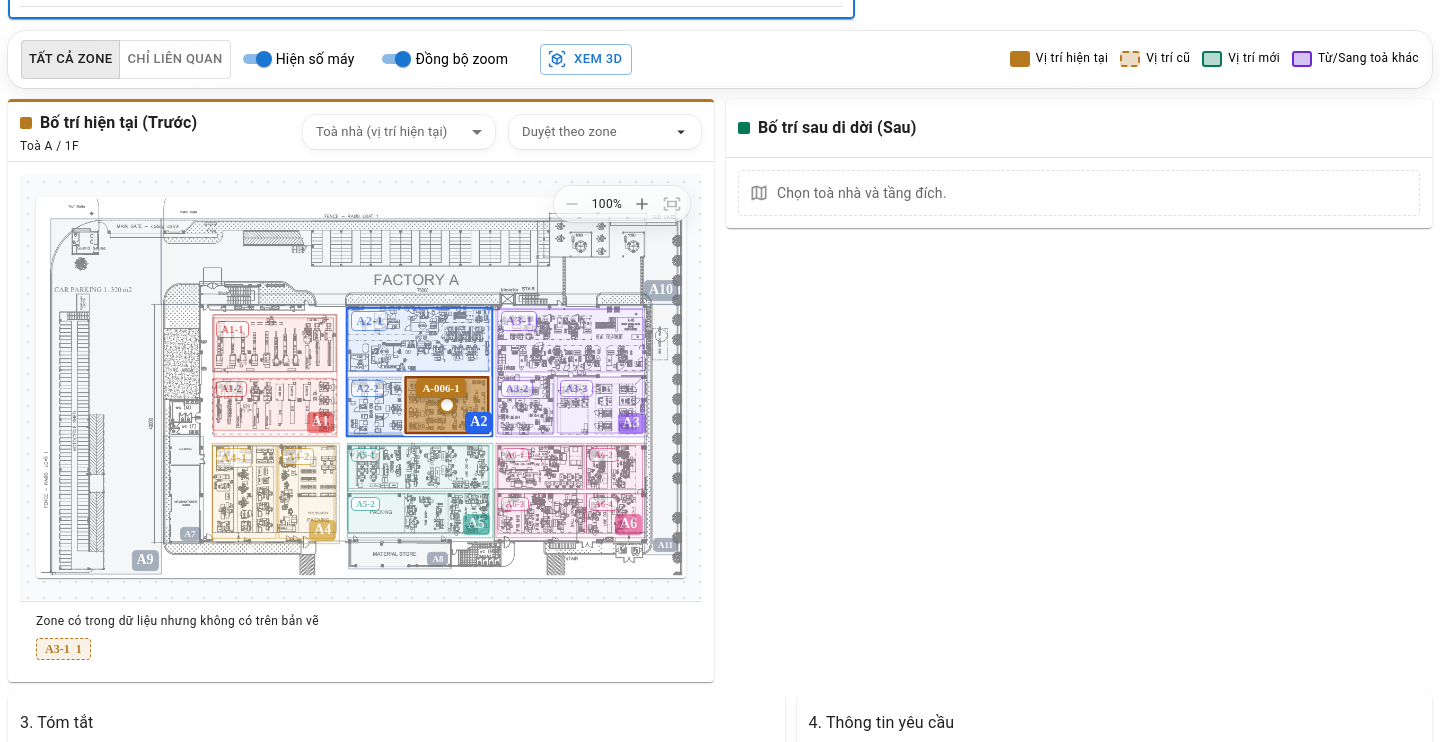
Test case: RelocationTab - browse by zone › opens the zone list from the Before map; "Select all" adds only selectable machines
(page scrolled)
Press Enter in the element with class "reloc-zone", box x1=406 y1=378 x2=488 y2=433
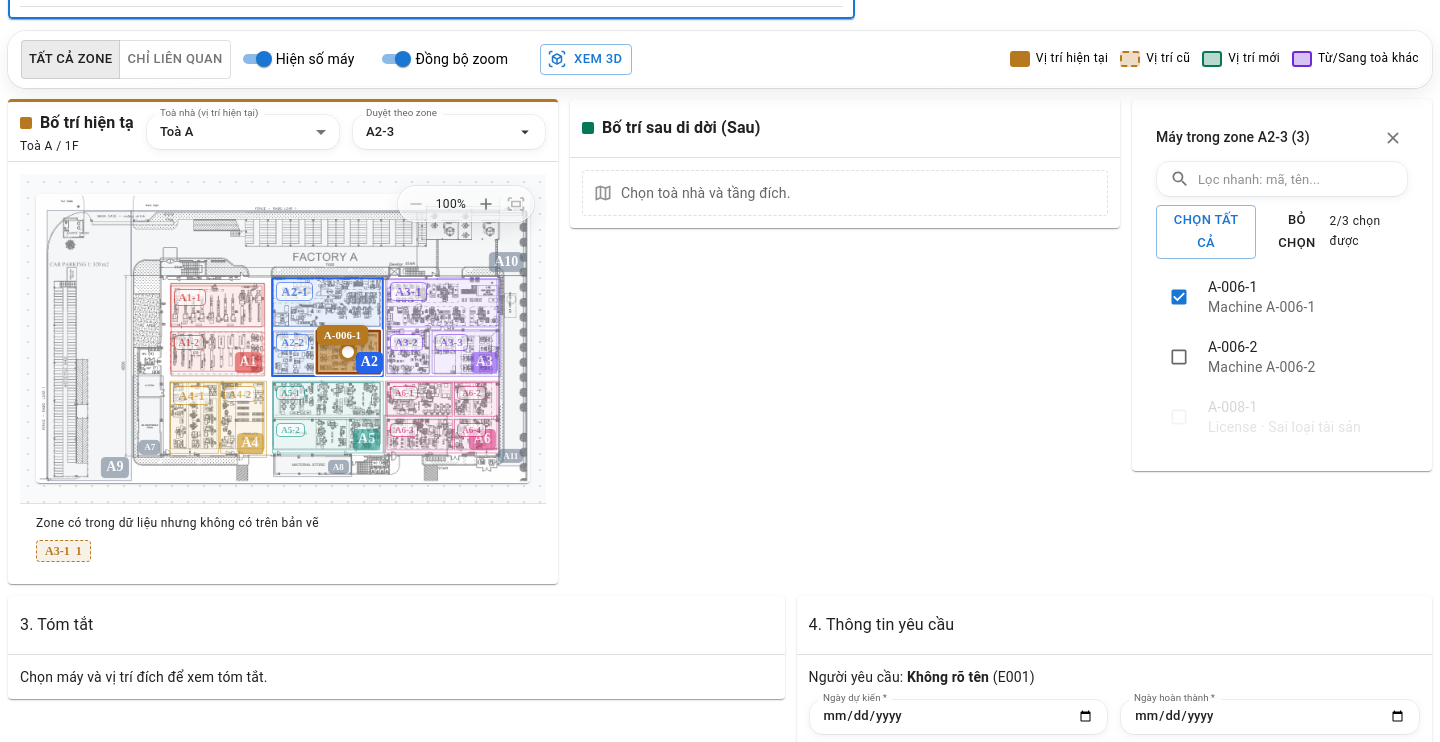
expect the checkbox labelled "A-006-1 Machine A-006-1" is checked: met, box x1=1169 y1=287 x2=1189 y2=307
expect the checkbox labelled "A-006-2 Machine A-006-2" is not checked: met, box x1=1169 y1=347 x2=1189 y2=367
Click the button "Chọn tất cả": (1206,232) x1=1156 y1=205 x2=1256 y2=259
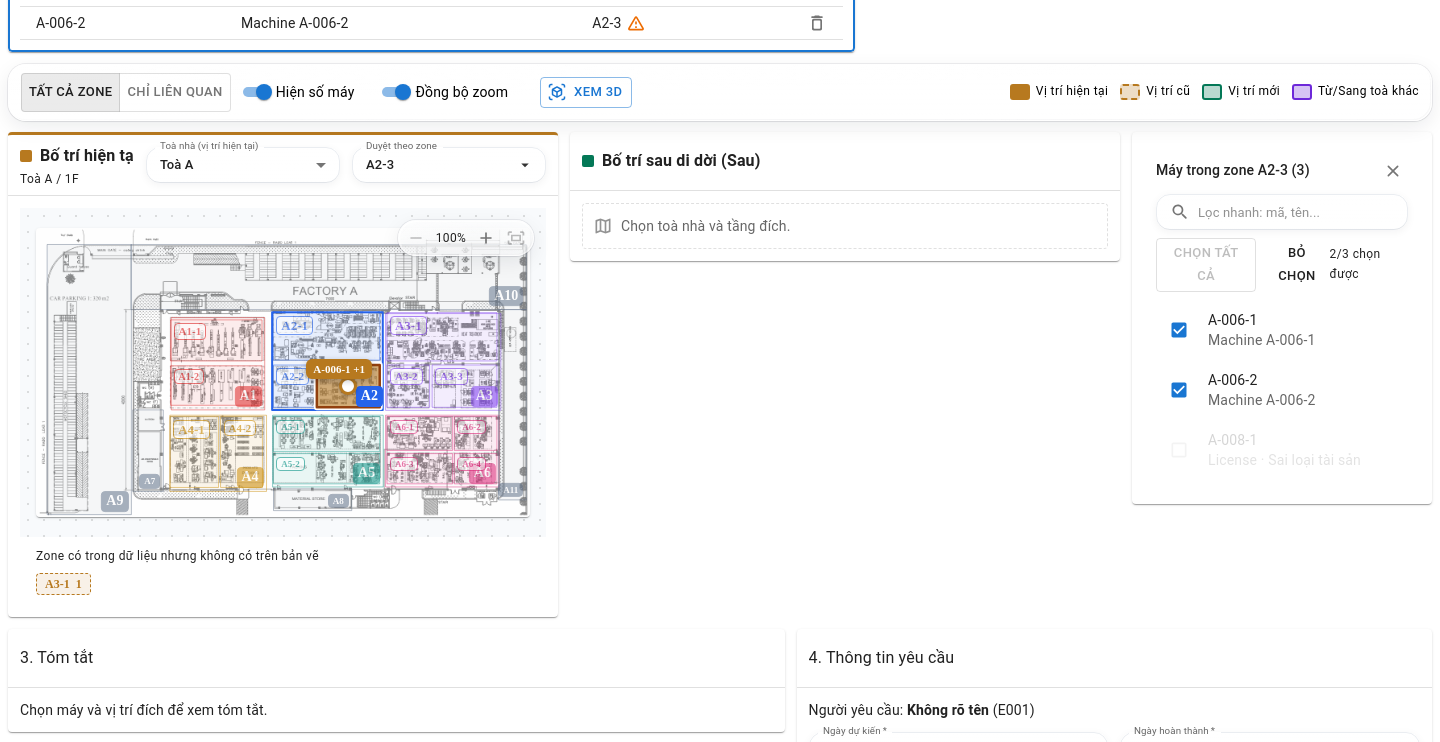
expect the checkbox labelled "A-006-2 Machine A-006-2" is checked: met, box x1=1169 y1=380 x2=1189 y2=400
